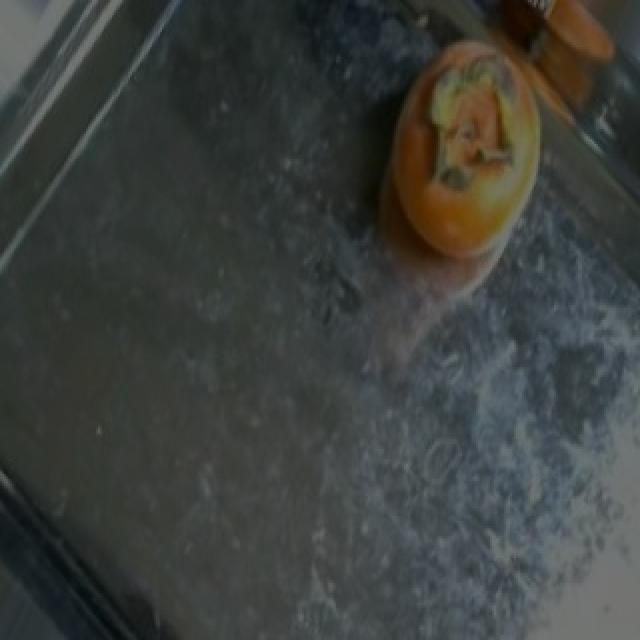Fruit: (348, 18, 570, 290)
